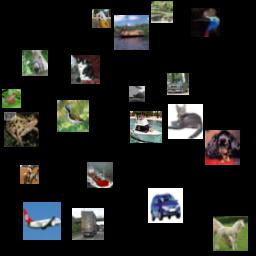airplane: (23, 202, 61, 240), (129, 86, 145, 102)
automobile: (148, 188, 183, 223), (167, 73, 189, 95)
bird: (57, 100, 89, 132), (191, 8, 220, 37)
cat: (168, 104, 203, 139), (71, 55, 100, 84)
deer: (151, 1, 173, 23)
dog: (205, 130, 240, 165), (92, 9, 111, 28)
frog: (4, 112, 39, 147), (2, 89, 21, 108)
ship: (114, 15, 149, 50), (130, 111, 162, 143), (87, 162, 113, 188)
truck: (72, 208, 104, 240)
